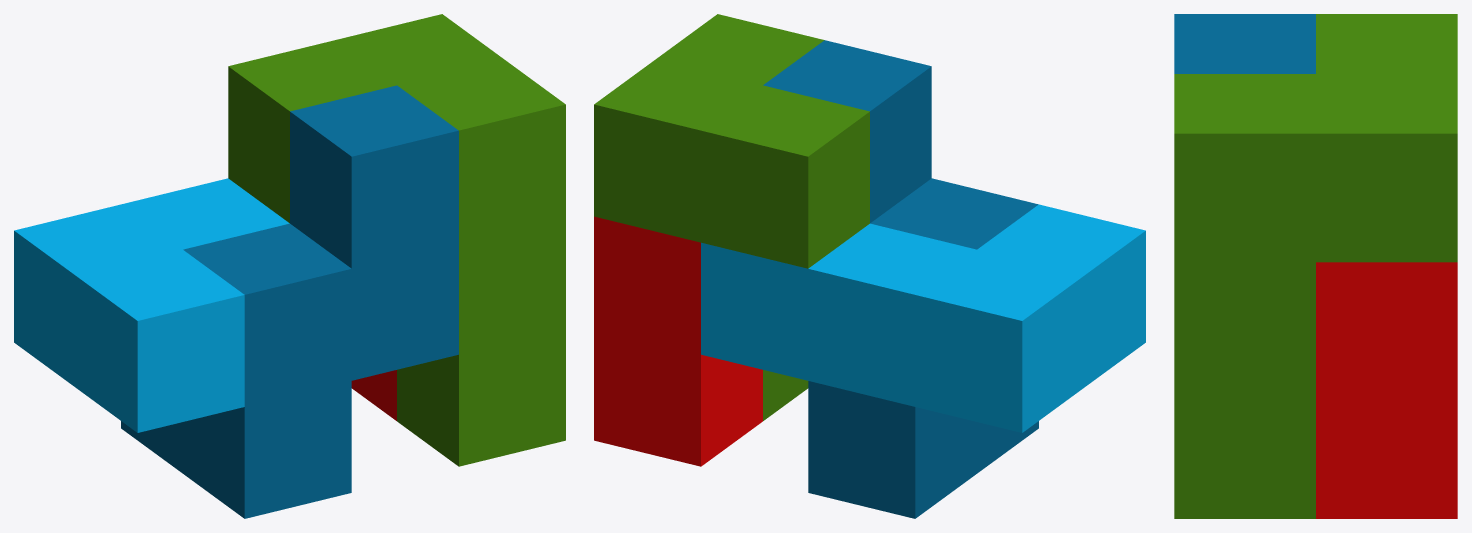
The picture shows the model from 3 angles, left to right: view 1: azimuth 30°, elevation 25°; view 2: azimuth 150°, elevation 25°; view 3: azimuth 270°, elevation 25°; orthographic projection. The views are drawn at different scales.
Visible parts, largest first — view 1: mergedBlocks(Clone); view 2: mergedBlocks(Clone); view 3: mergedBlocks(Clone).
Boxes of the visible parts, left/top/right/bottom form: mergedBlocks(Clone): left=14, top=14, right=565, bottom=518; mergedBlocks(Clone): left=594, top=14, right=1145, bottom=518; mergedBlocks(Clone): left=1174, top=14, right=1457, bottom=518.
Size of the model in its own units: 4 by 3 by 2.
Materials: 4 (4 with a texture image).
